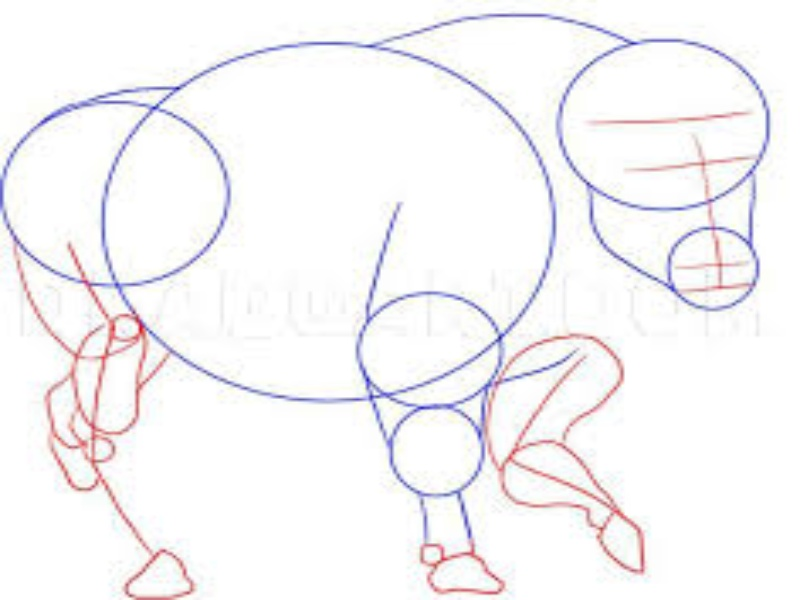buffalo: (38, 25, 768, 576)
